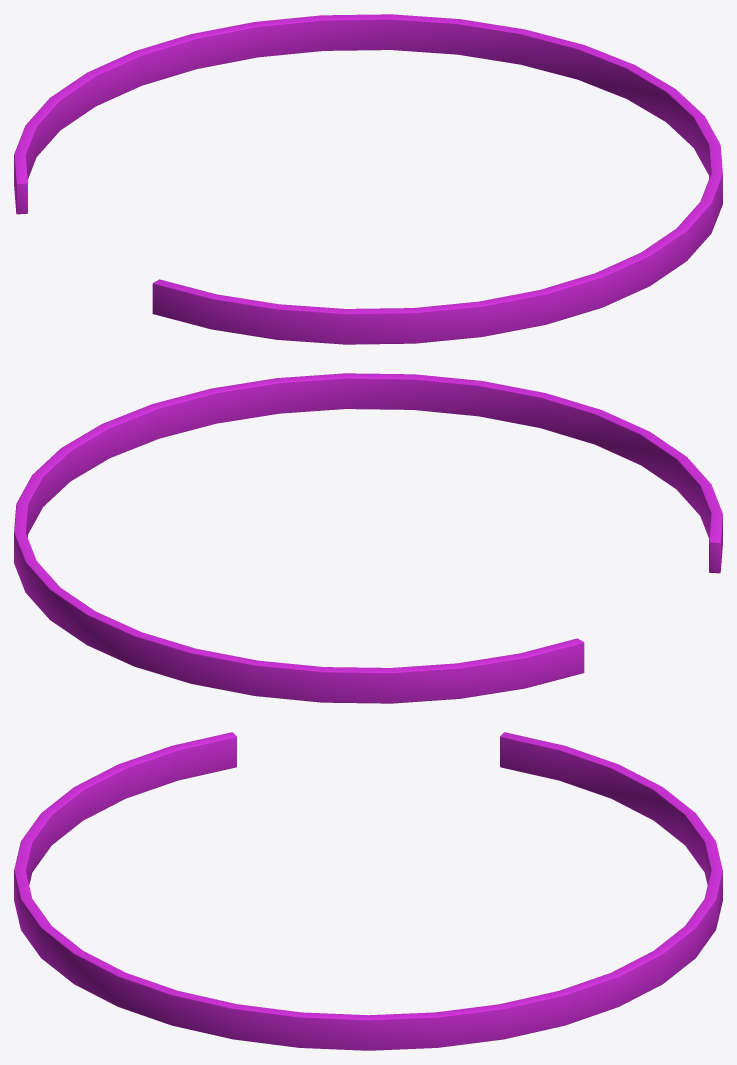
The model's file is Ring.fbx.
The picture shows the model from 3 angles, top to bottom: view 1: azimuth 30°, elevation 25°; view 2: azimuth 150°, elevation 25°; view 3: azimuth 270°, elevation 25°; orthographic projection.
Parts seen in each view (by area): view 1: Ring; view 2: Ring; view 3: Ring.
Part boxes in pixels (x1,y1,x2,y2): Ring: (14,14,722,344); Ring: (14,373,722,703); Ring: (14,732,722,1050).
Bounding box in the file's own units: 1448 × 73.17 × 1506.
